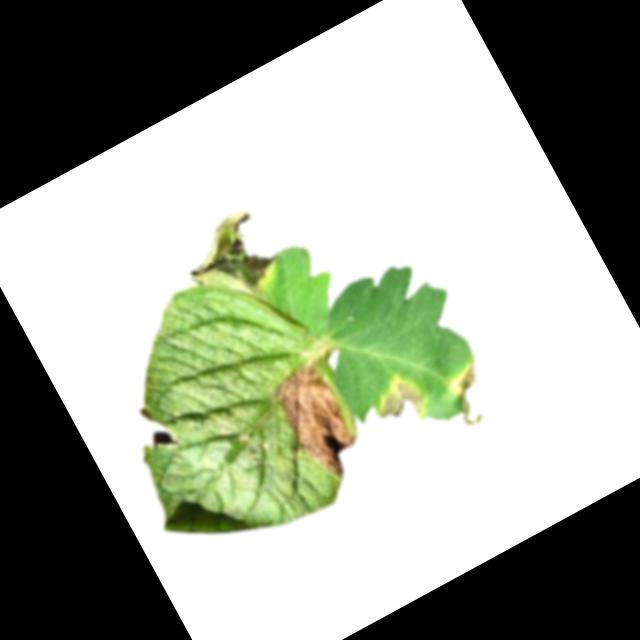Late_blight: (263, 358, 371, 489), (170, 204, 289, 322), (437, 356, 502, 430), (366, 366, 431, 434)
